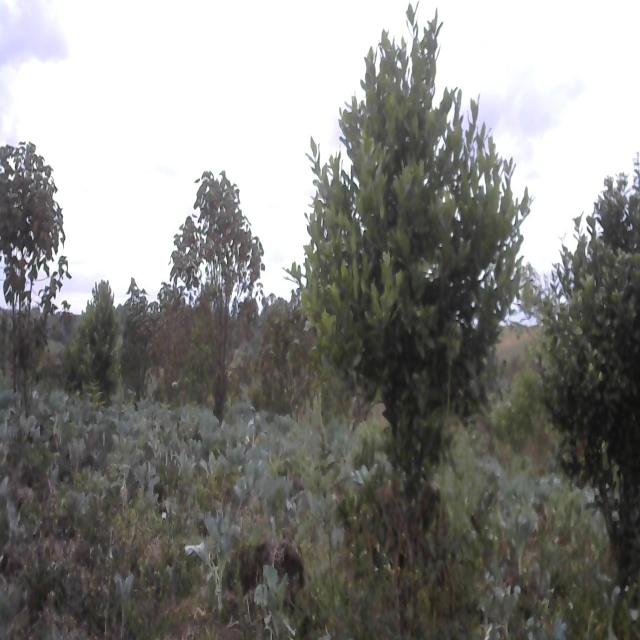other: (297, 25, 525, 563), (172, 171, 272, 448), (0, 130, 74, 457)
